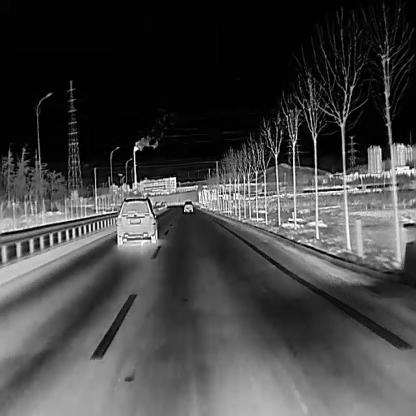car: (115, 195, 156, 244), (182, 199, 192, 212)
